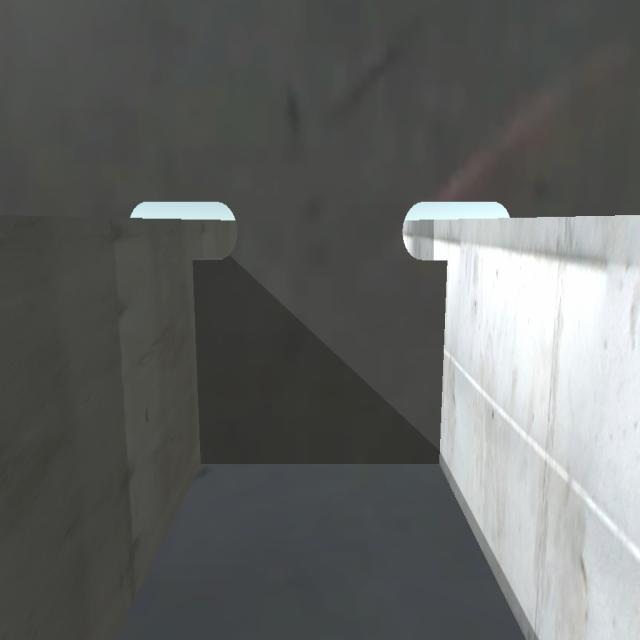fillet_yong_jeop_jang: (202, 456, 449, 468)
longi_yong_jeop_jang: (187, 255, 209, 476), (438, 252, 450, 462)
